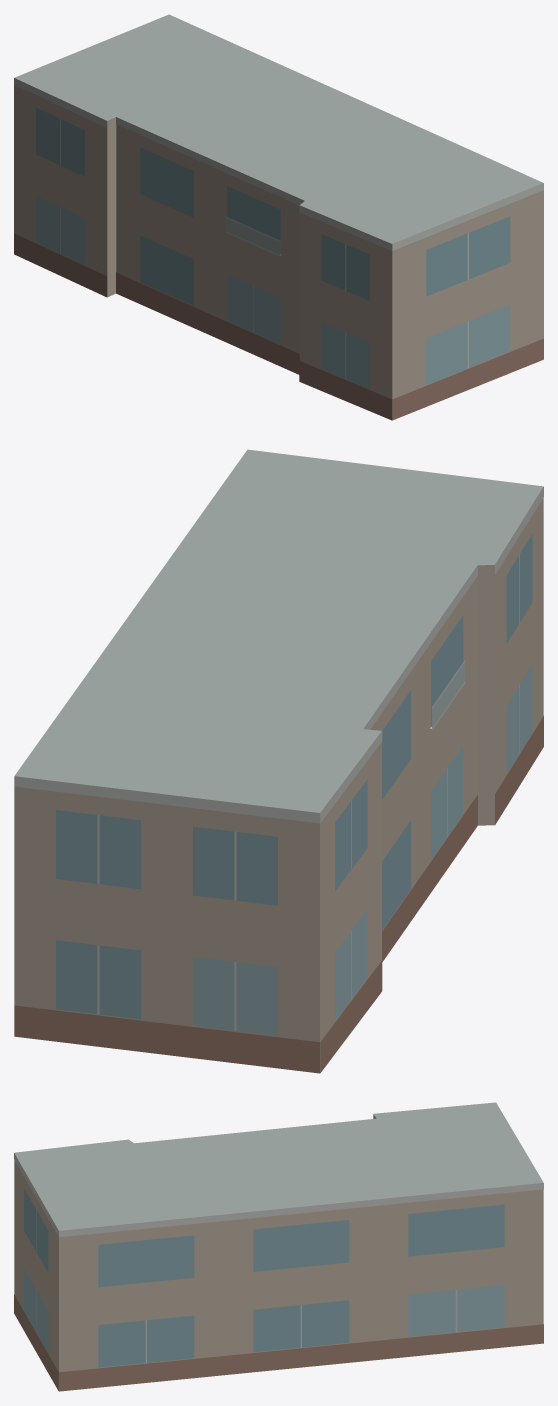
Rendered from survey-upis-32986282.glb.
3 renders of one model, top to bottom at view 1: azimuth 30°, elevation 25°; view 2: azimuth 150°, elevation 25°; view 3: azimuth 270°, elevation 25°, orthographic. The views are drawn at different scales.
Visible parts, largest first — view 1: survey-upis-32986282.tmp; view 2: survey-upis-32986282.tmp; view 3: survey-upis-32986282.tmp.
Part boxes in pixels (x1=…): survey-upis-32986282.tmp: x1=14, y1=14, x2=543, y2=420; survey-upis-32986282.tmp: x1=14, y1=449, x2=543, y2=1073; survey-upis-32986282.tmp: x1=14, y1=1102, x2=543, y2=1391.
Size of the model in its own units: 10.48 by 6.1 by 18.24.
